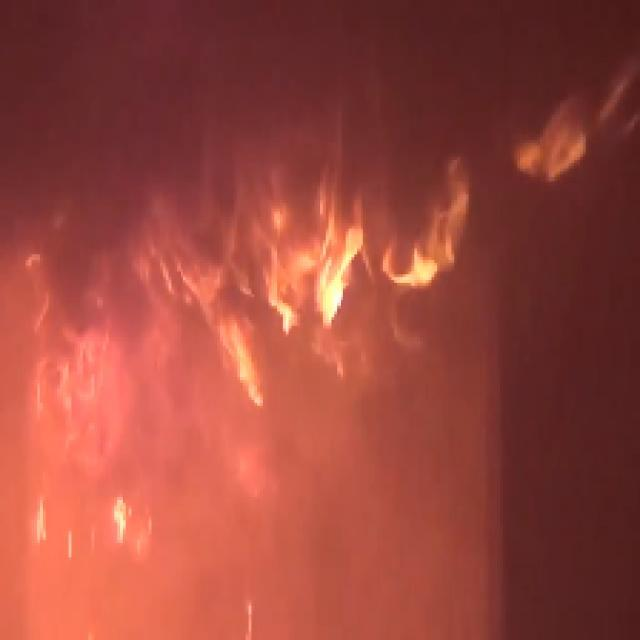Fire: (200, 228, 454, 394), (28, 346, 163, 558), (520, 109, 603, 174)
Smoke: (23, 17, 486, 180), (26, 194, 160, 320)
